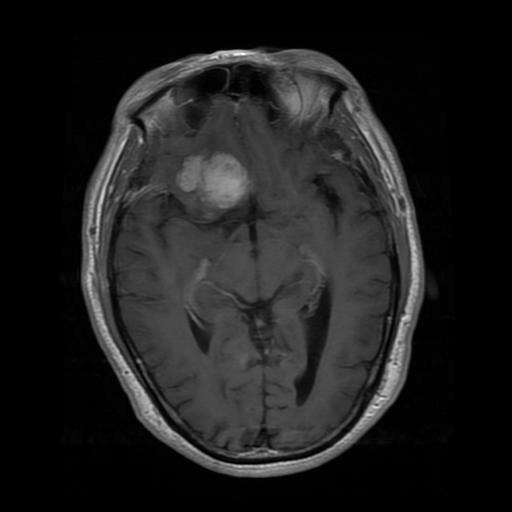Tumour-Pituitary: (162, 134, 274, 231)
